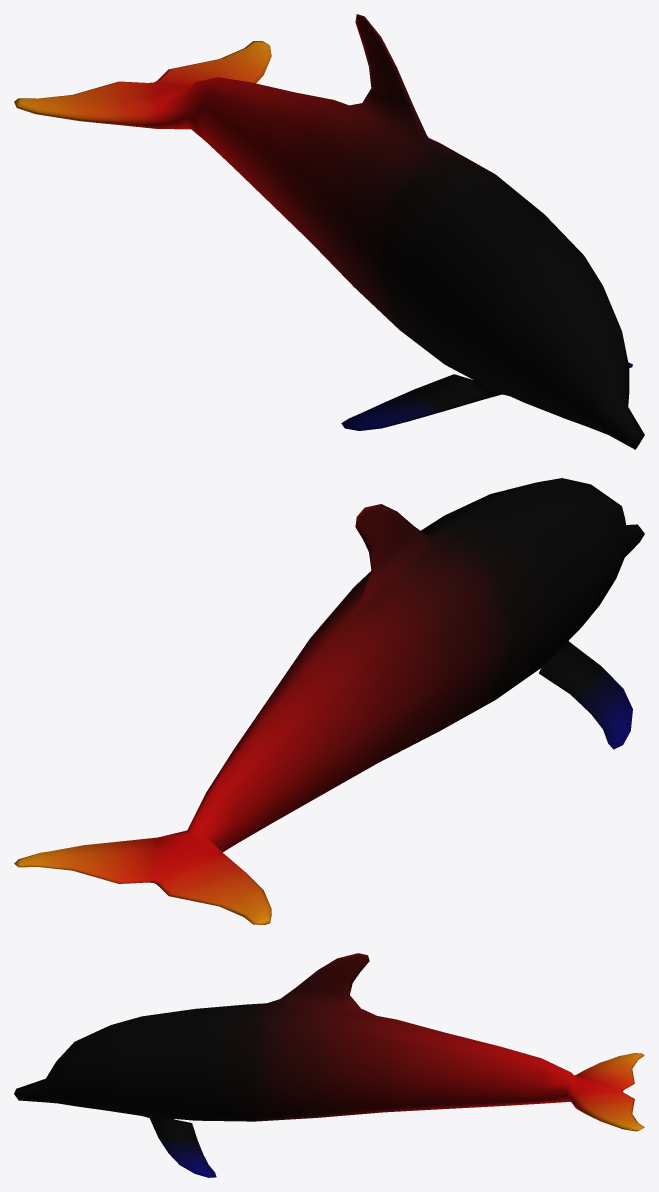
The picture shows the model from 3 angles, top to bottom: view 1: azimuth 30°, elevation 25°; view 2: azimuth 150°, elevation 25°; view 3: azimuth 270°, elevation 25°; orthographic projection. The views are drawn at different scales.
Parts seen in each view (by area): view 1: striped dolphin_final; view 2: striped dolphin_final; view 3: striped dolphin_final.
Boxes of the visible parts, <box> form: striped dolphin_final: <box>14,14,644,449</box>; striped dolphin_final: <box>14,478,644,924</box>; striped dolphin_final: <box>14,953,644,1177</box>.
Size of the model in its own units: 0.7122 by 0.7113 by 2.23.
